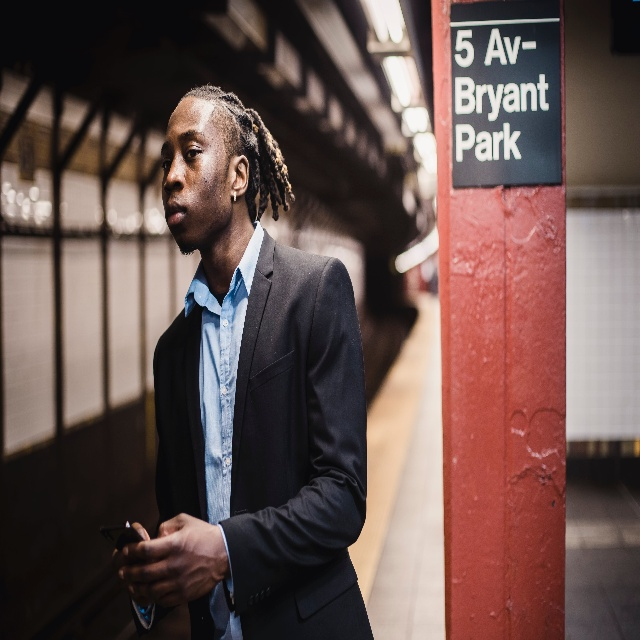Sin_guantes: (120, 516, 228, 614)
